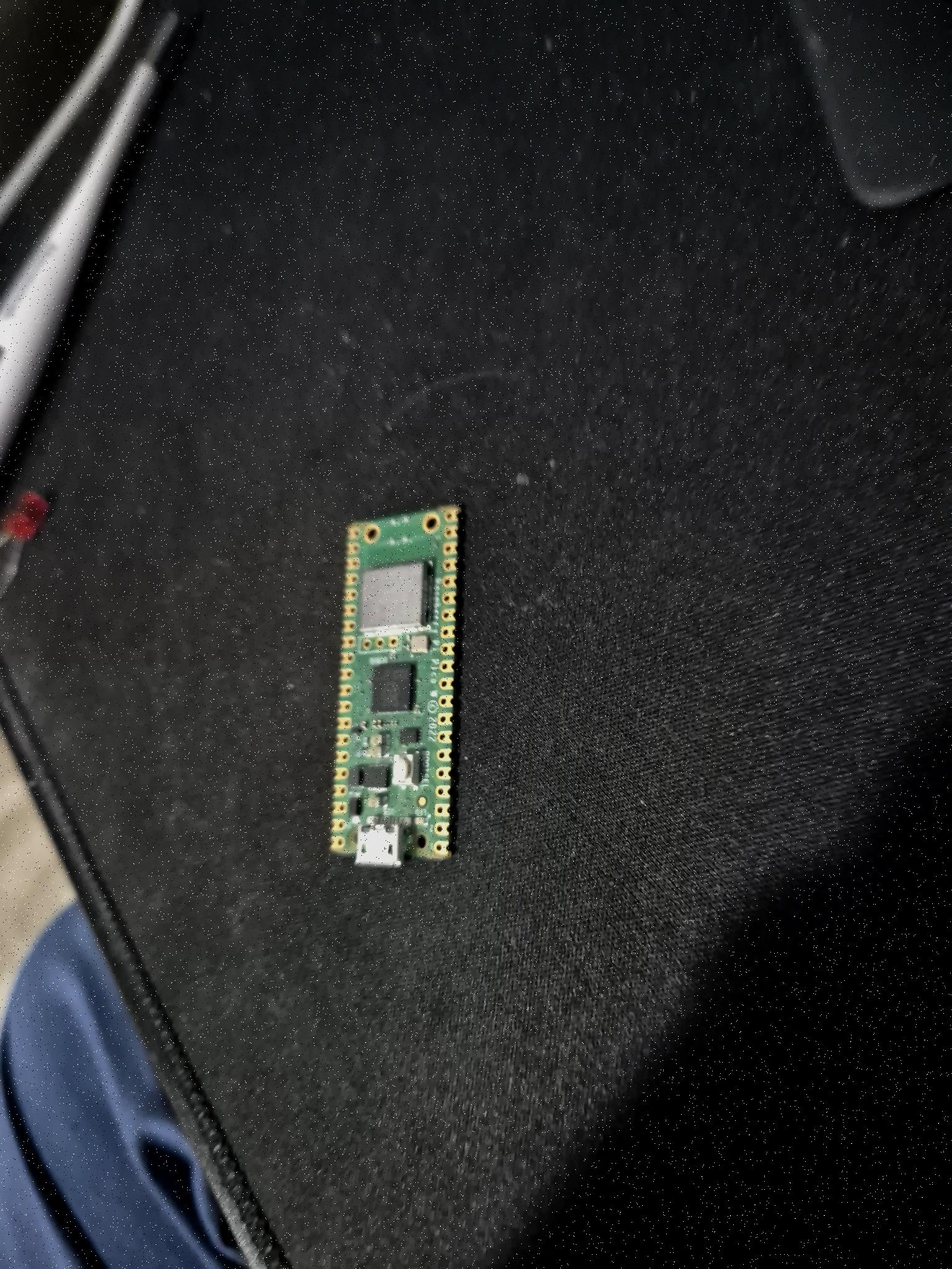raspberry-pi-pico-w: (330, 505, 462, 867)
